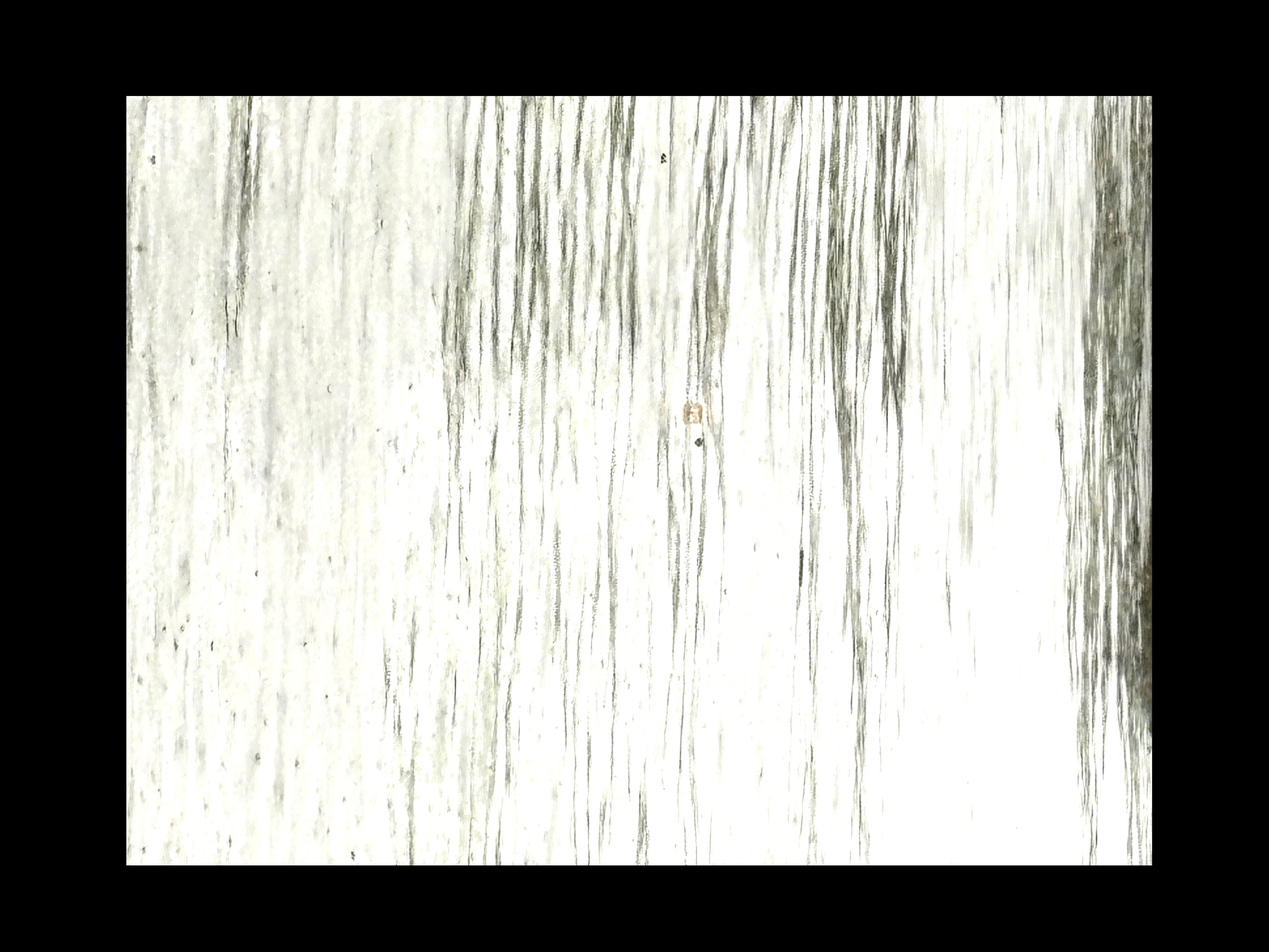Natural wastes: (1063, 377, 1096, 427), (1176, 520, 1195, 561)
